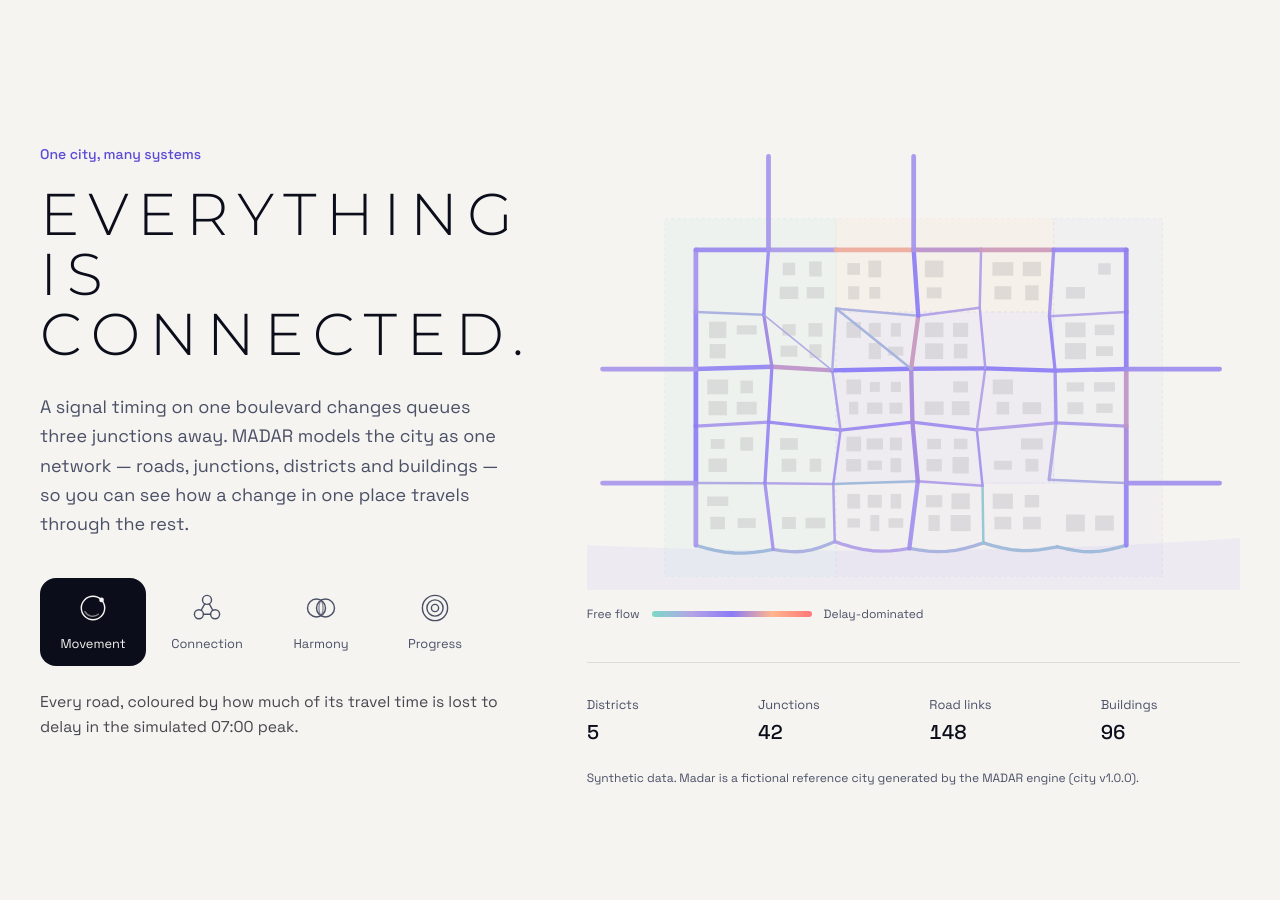
it: Connected section › switches layers with accessible tabs
Click the tab "Harmony": click(321, 622) [268,578,374,666]
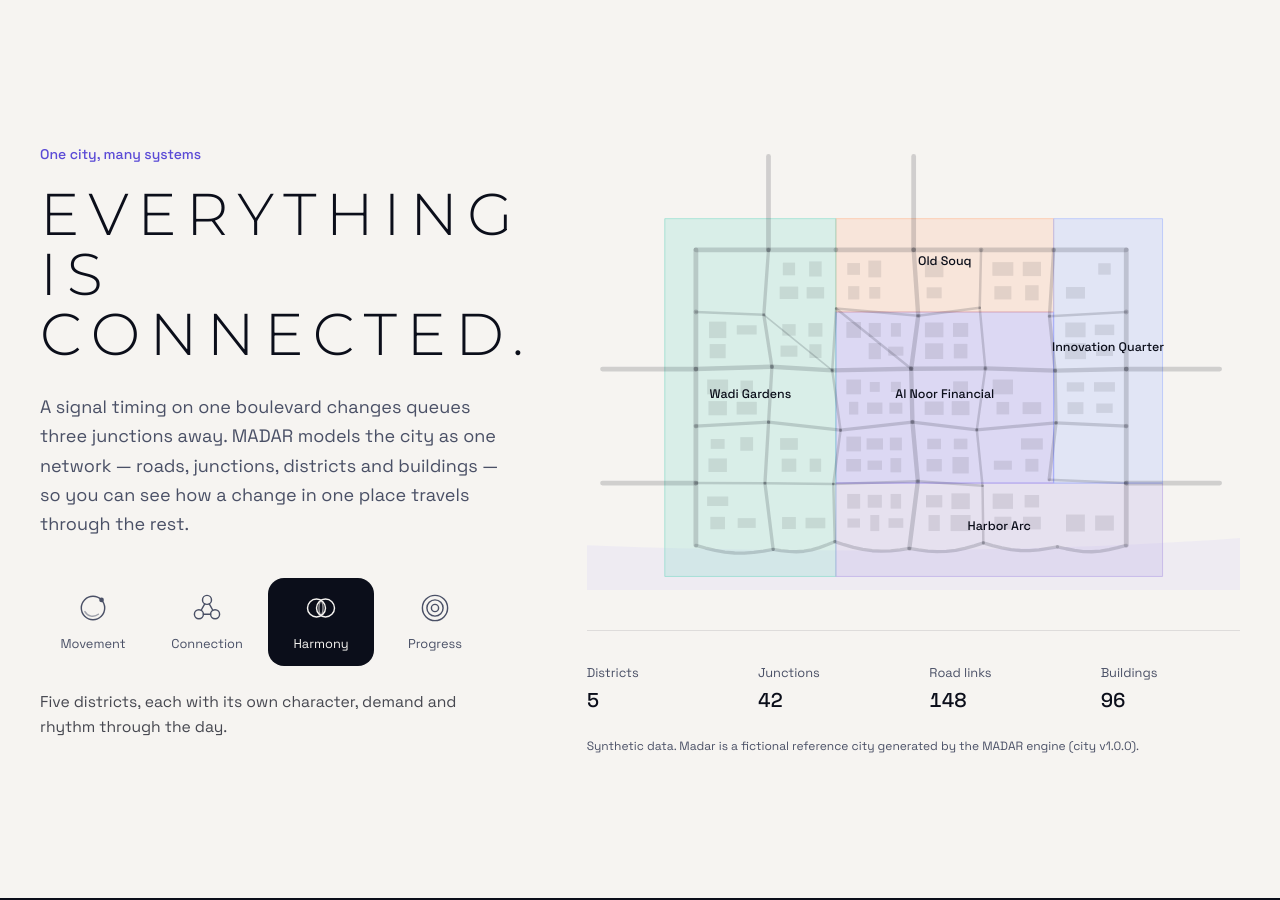
Expected: the text "Five districts" is shown, [40,692,456,737]
